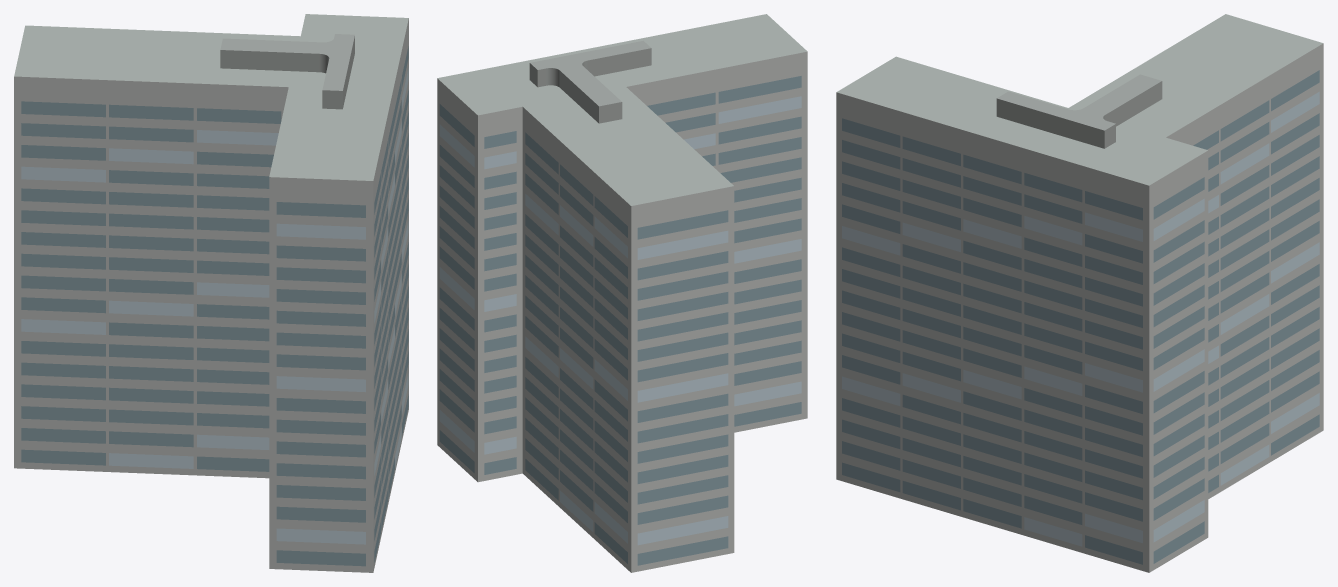
The model's file is apt-a10025969.glb.
3 views of the same model, side by side, from view 1: azimuth 30°, elevation 25°; view 2: azimuth 150°, elevation 25°; view 3: azimuth 270°, elevation 25° (orthographic). The views are drawn at different scales.
Parts seen in each view (by area): view 1: apt-a10025969; view 2: apt-a10025969; view 3: apt-a10025969.
Part boxes in pixels (x1=…): apt-a10025969: x1=14, y1=14, x2=408, y2=572; apt-a10025969: x1=437, y1=14, x2=807, y2=572; apt-a10025969: x1=836, y1=14, x2=1323, y2=572.
Bounding box in the file's own units: 46.31 × 51 × 55.54.
